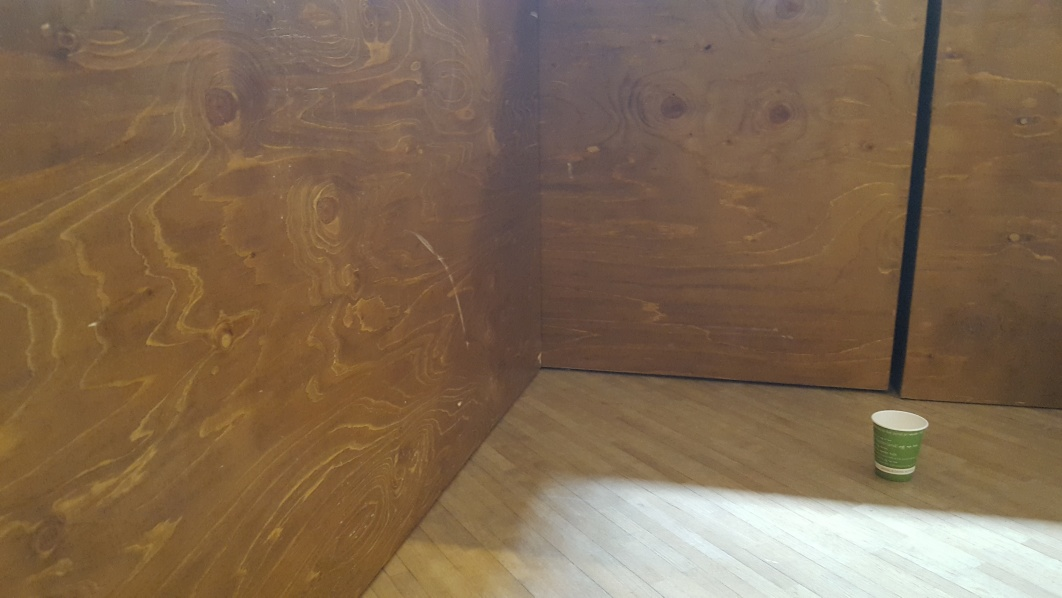cup: (869, 405, 932, 489)
